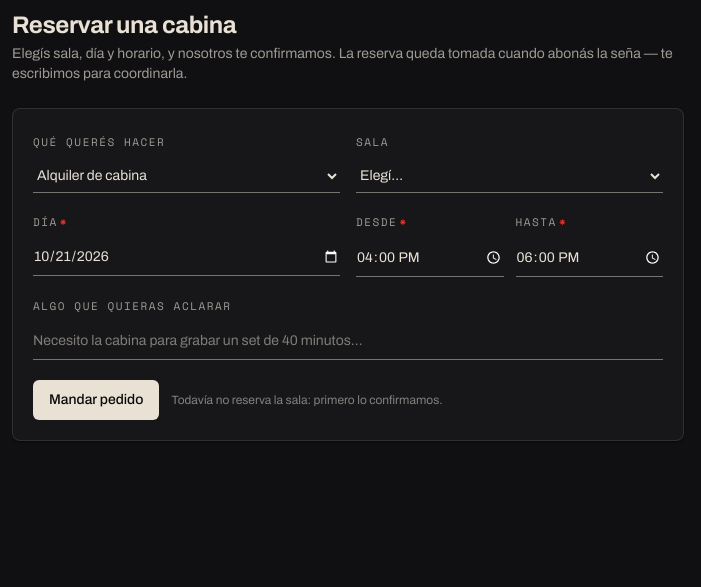
el catálogo › muestra la advertencia de la matriz cuando la hay
Select "Cabina de grabación" in the dropdown labelled "Sala": (510, 176) left=356, top=159, right=663, bottom=193
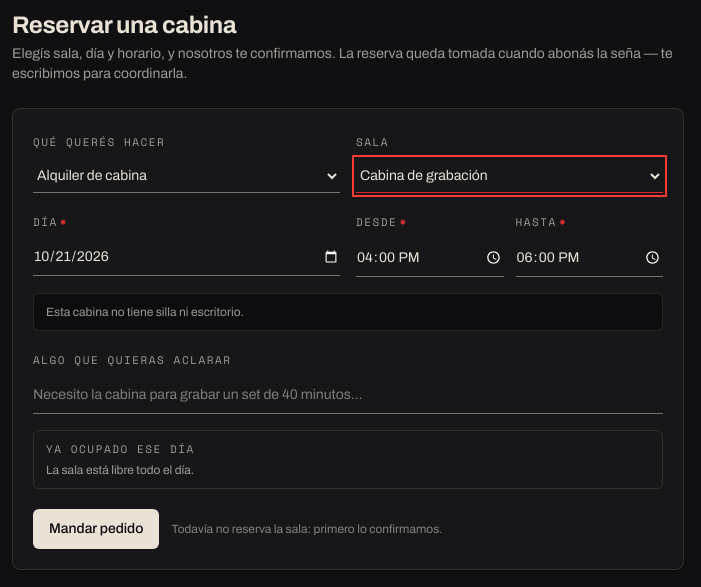
Result: the text "Esta cabina no tiene silla ni escritorio." is shown at left=33, top=293, right=663, bottom=331
